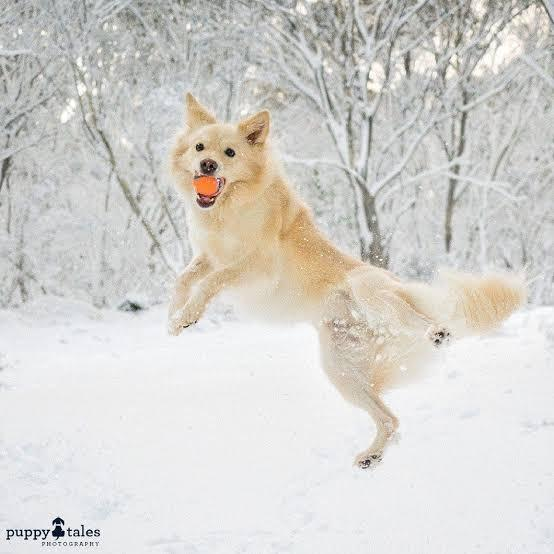adult_dog: (159, 84, 538, 472)
